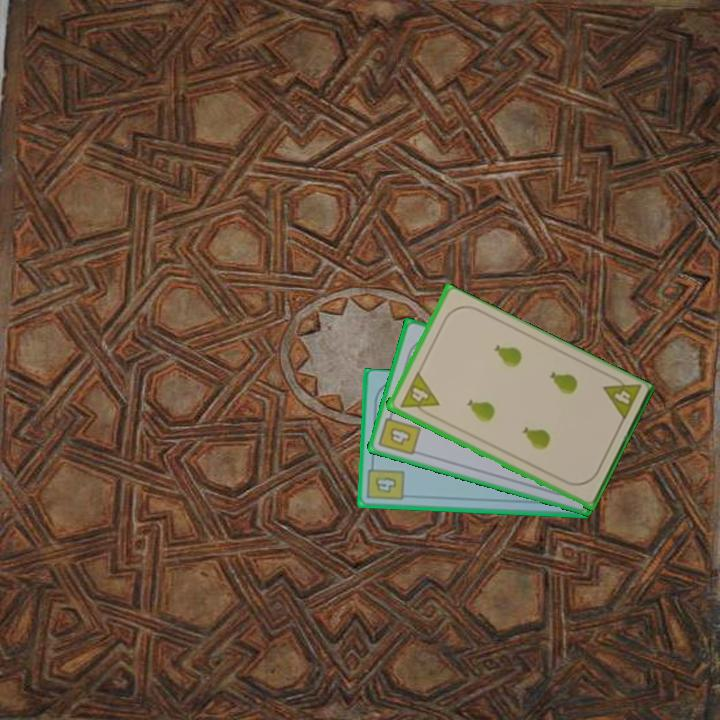4b: (375, 407, 423, 458), (364, 459, 407, 503)
4p: (599, 371, 644, 425), (396, 369, 441, 420)
